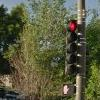Tree: (13, 5, 61, 82)
